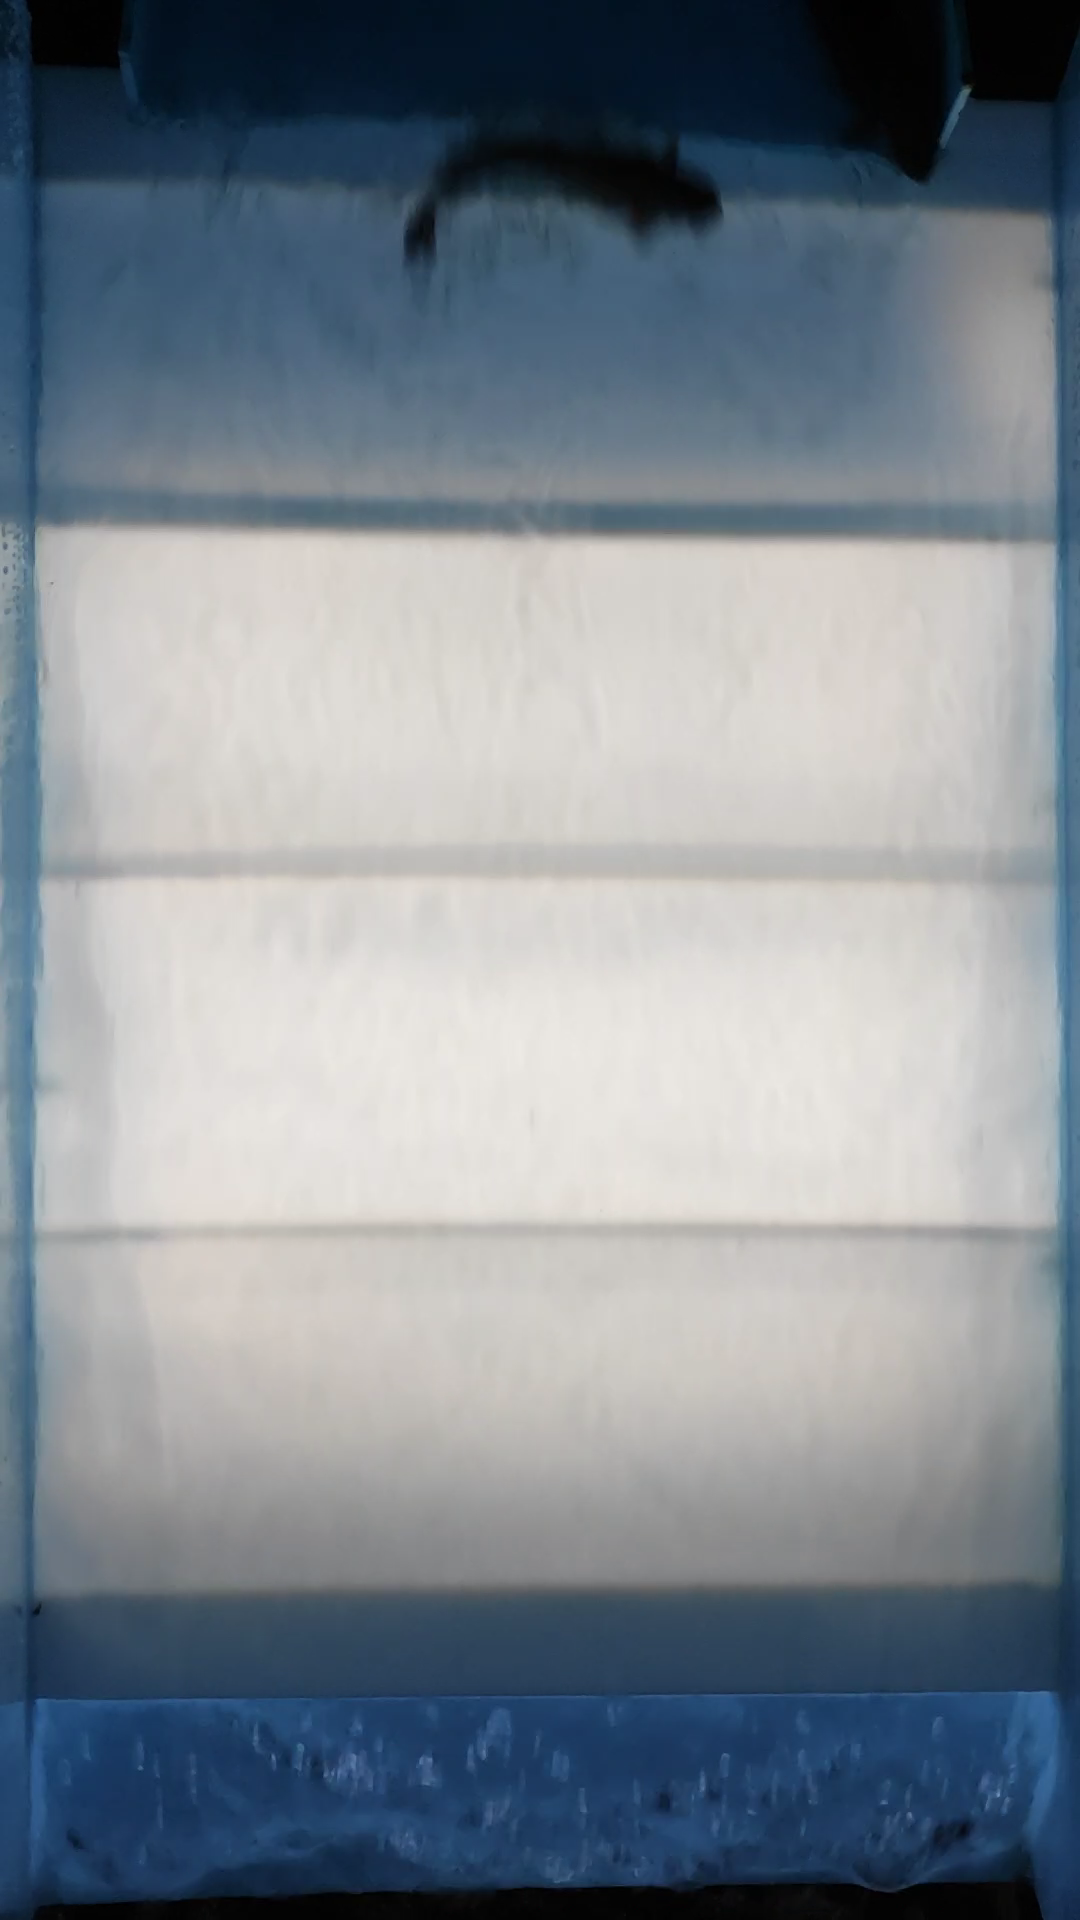fish: (389, 124, 731, 283)
